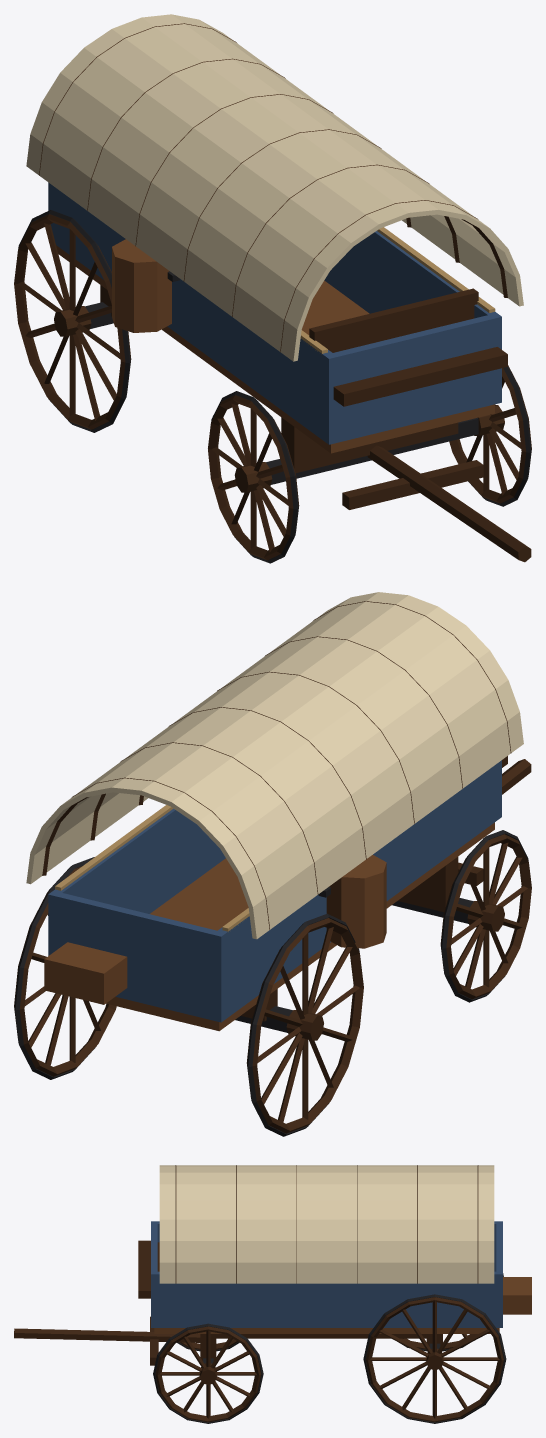
The model's file is SM_Covered_Wagon.obj.
The picture shows the model from 3 angles, top to bottom: view 1: azimuth 30°, elevation 25°; view 2: azimuth 150°, elevation 25°; view 3: azimuth 270°, elevation 25°; orthographic projection. The views are drawn at different scales.
Visible parts, largest first — view 1: SM_Covered_Wagon; view 2: SM_Covered_Wagon; view 3: SM_Covered_Wagon.
Boxes of the visible parts, x1,y1,x2,y2 form: SM_Covered_Wagon: (14, 14, 531, 563); SM_Covered_Wagon: (14, 592, 531, 1136); SM_Covered_Wagon: (14, 1165, 531, 1423).
Bounding box in the file's own units: 1.76 × 2.21 × 4.8.
